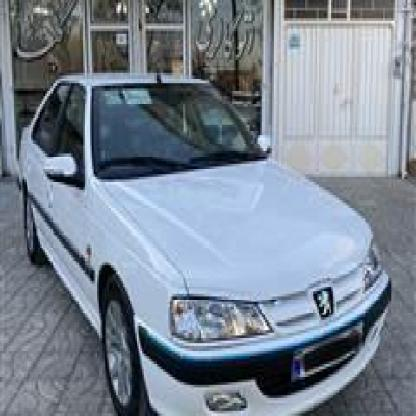Car: (12, 44, 383, 416)
